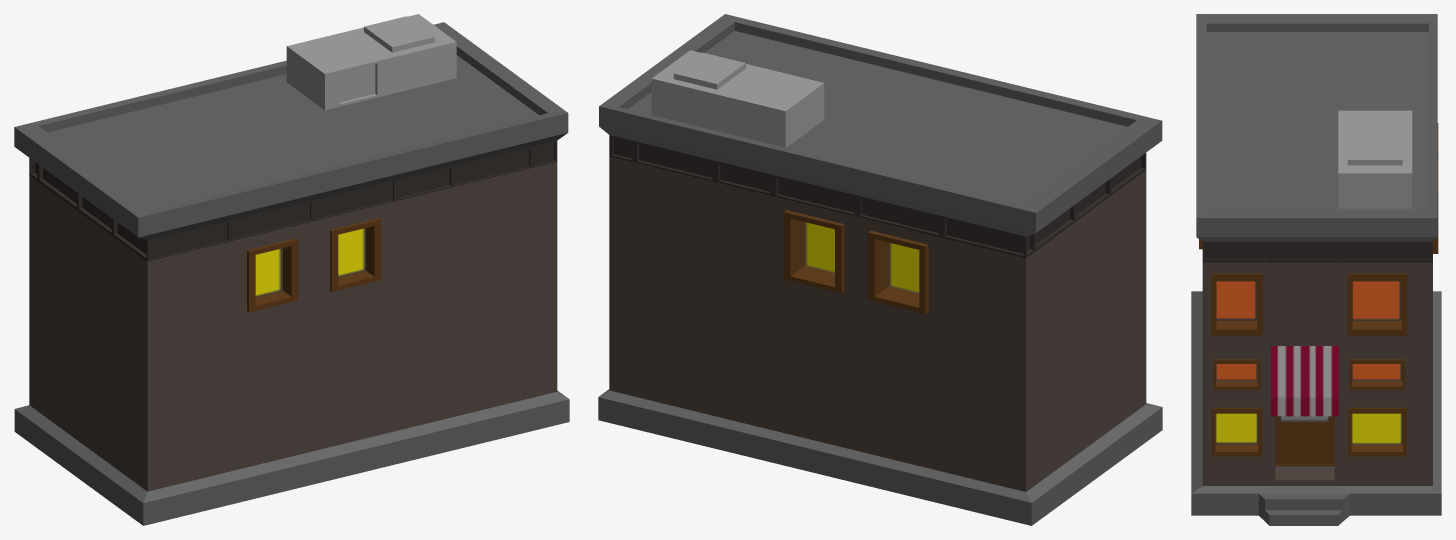
File: House.obj
3 renders of one model, left to right at view 1: azimuth 30°, elevation 25°; view 2: azimuth 150°, elevation 25°; view 3: azimuth 270°, elevation 25°, orthographic. The views are drawn at different scales.
Visible parts, largest first — view 1: Cube; view 2: Cube; view 3: Cube.
Boxes of the visible parts, <box> form: Cube: <box>14,14,569,525</box>; Cube: <box>598,14,1162,525</box>; Cube: <box>1191,14,1441,525</box>.
Bounding box in the file's own units: 15.42 × 11.08 × 7.63.
Materials: 1 (1 with a texture image).
